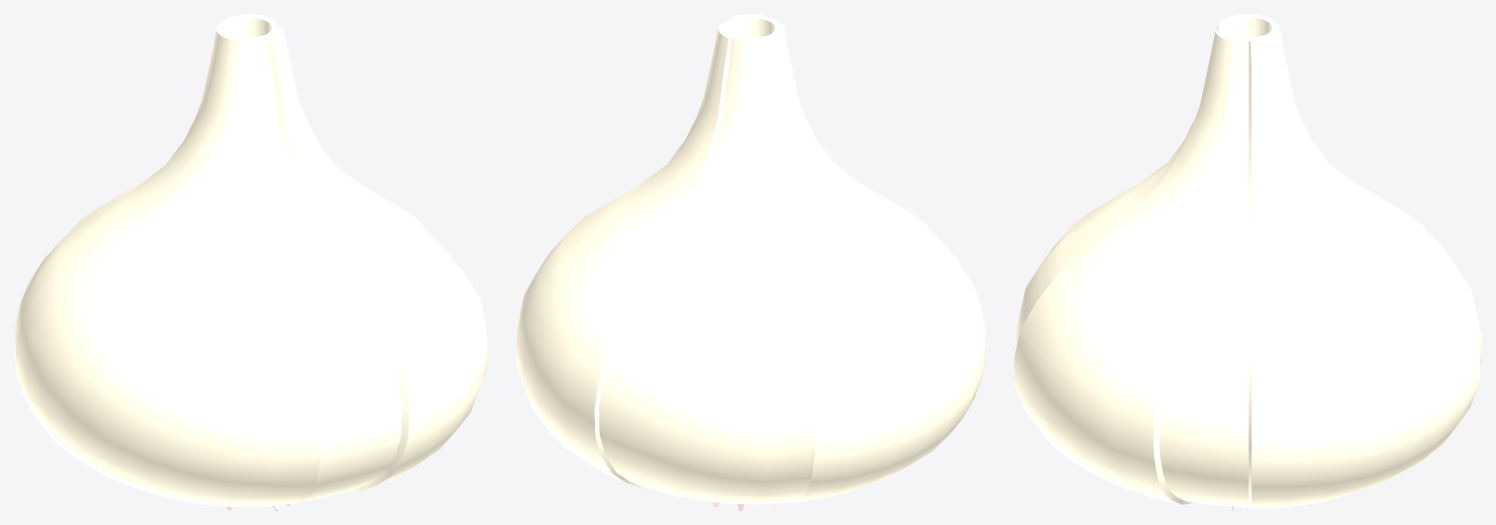
File: garlic.gltf
3 views of the same model, side by side, from view 1: azimuth 30°, elevation 25°; view 2: azimuth 150°, elevation 25°; view 3: azimuth 270°, elevation 25° (orthographic).
Visible parts, largest first — view 1: Sphere.487; view 2: Sphere.487; view 3: Sphere.487.
Boxes of the visible parts, bbox=[...] form: Sphere.487: bbox=[14, 14, 487, 510]; Sphere.487: bbox=[516, 14, 985, 510]; Sphere.487: bbox=[1014, 14, 1481, 510].
Bounding box in the file's own units: 2.13 × 2.3 × 2.11.
Materials: 1 (1 with a texture image).
